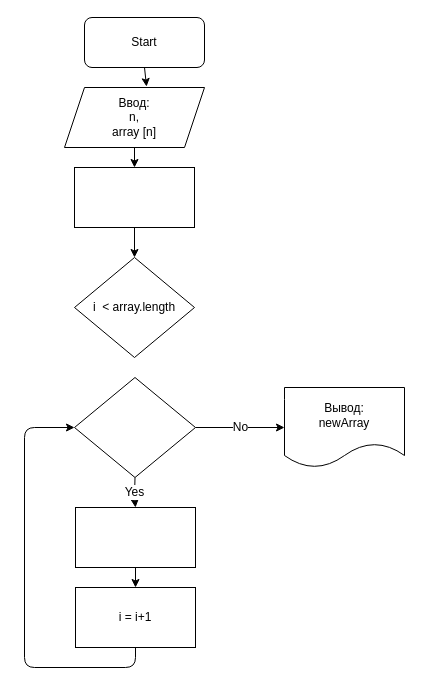
Some shapes in this 422 by 693 pixel diagram are drawn without their labels. Here are the shapes that lost their labels. From the top down, the centre of each, then its label:
point (134, 197): i =0, i < array.length
point (135, 427): array[i].Length <= 3
point (135, 537): newArray[i] = array[i]
